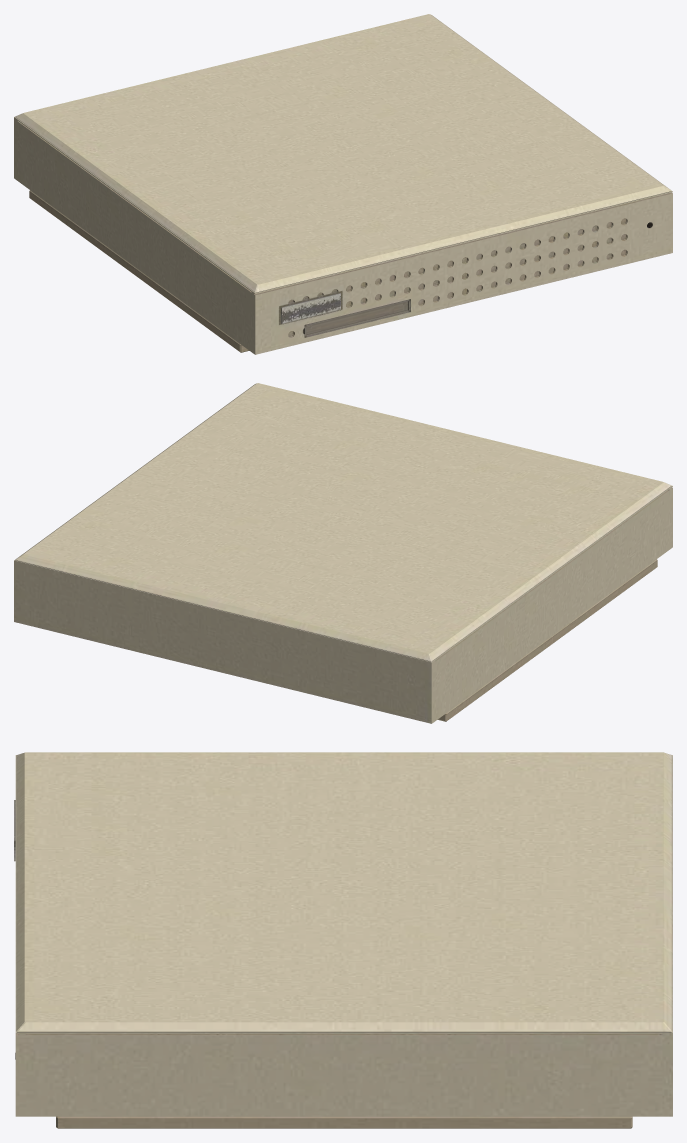
Rendered from pizzabox-c.glb.
3 views of the same model, one above another, from view 1: azimuth 30°, elevation 25°; view 2: azimuth 150°, elevation 25°; view 3: azimuth 270°, elevation 25° (orthographic). The views are drawn at different scales.
Parts seen in each view (by area): view 1: case-baked; view 2: case-baked; view 3: case-baked.
Part boxes in pixels (bbox=[...]): case-baked: bbox=[14, 14, 672, 354]; case-baked: bbox=[14, 383, 672, 723]; case-baked: bbox=[14, 752, 672, 1128].
Size of the model in its own units: 0.409 by 0.071 by 0.4101.
1 material, 1 textured.
